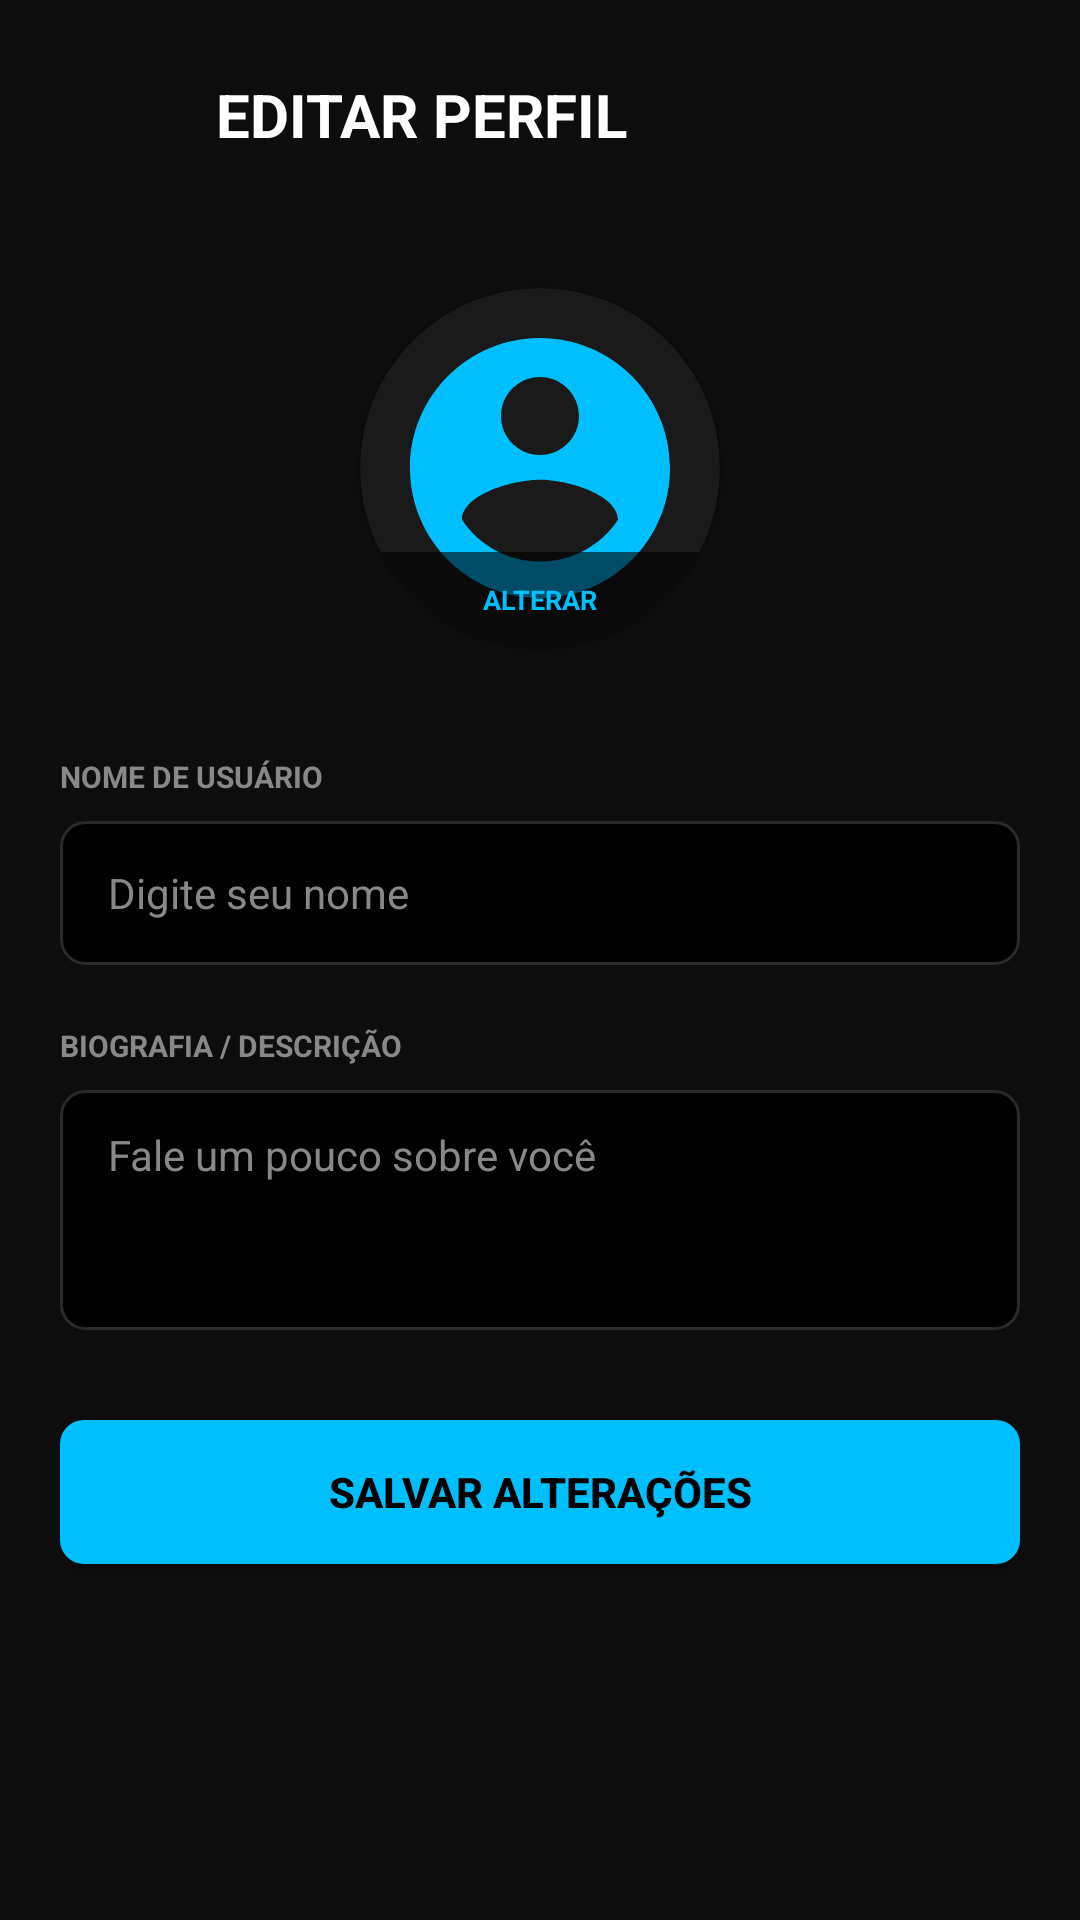

Where icons sit on this 1080 × 1920 app screen, as {"x1": x1, "y1": y1, "x2": x2, "y2": y2}:
profile: {"x1": 409, "y1": 338, "x2": 670, "y2": 610}
